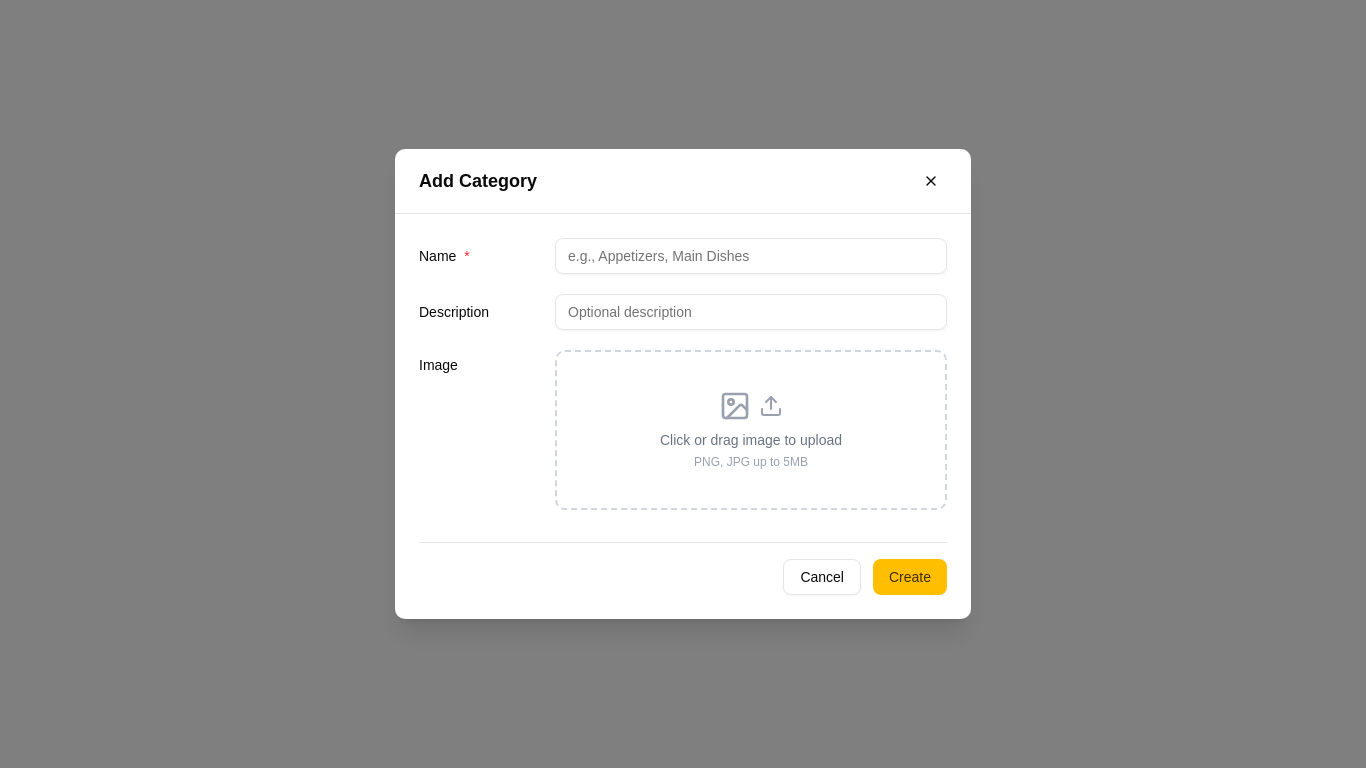
Scenario: CategoryForm › Error Handling › should display error message when action fails
The width and height of the screenshot is (1366, 768).
Type "Duplicate Name" into the field labelled "Name *" at (751, 256), box [555,238,947,274]
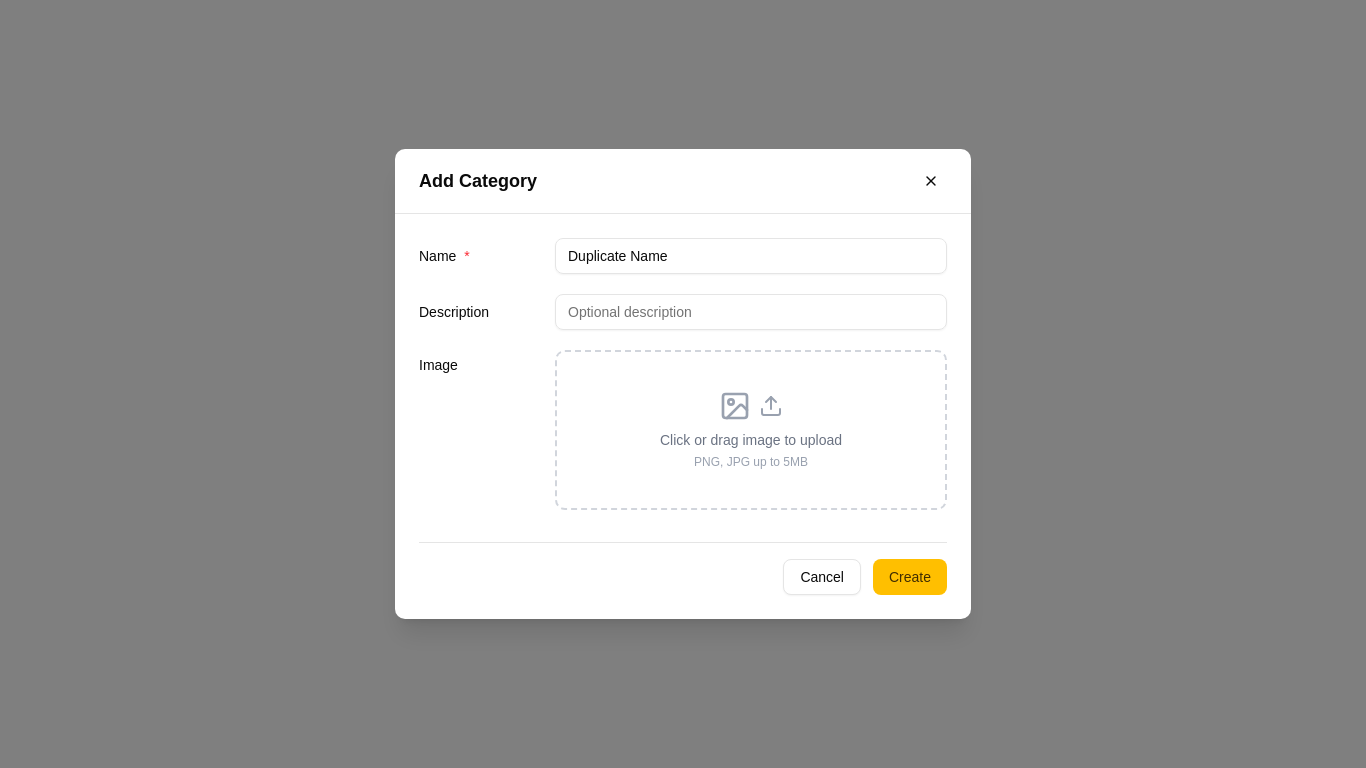
Click the button "Create" at (910, 577), box [873,559,947,595]
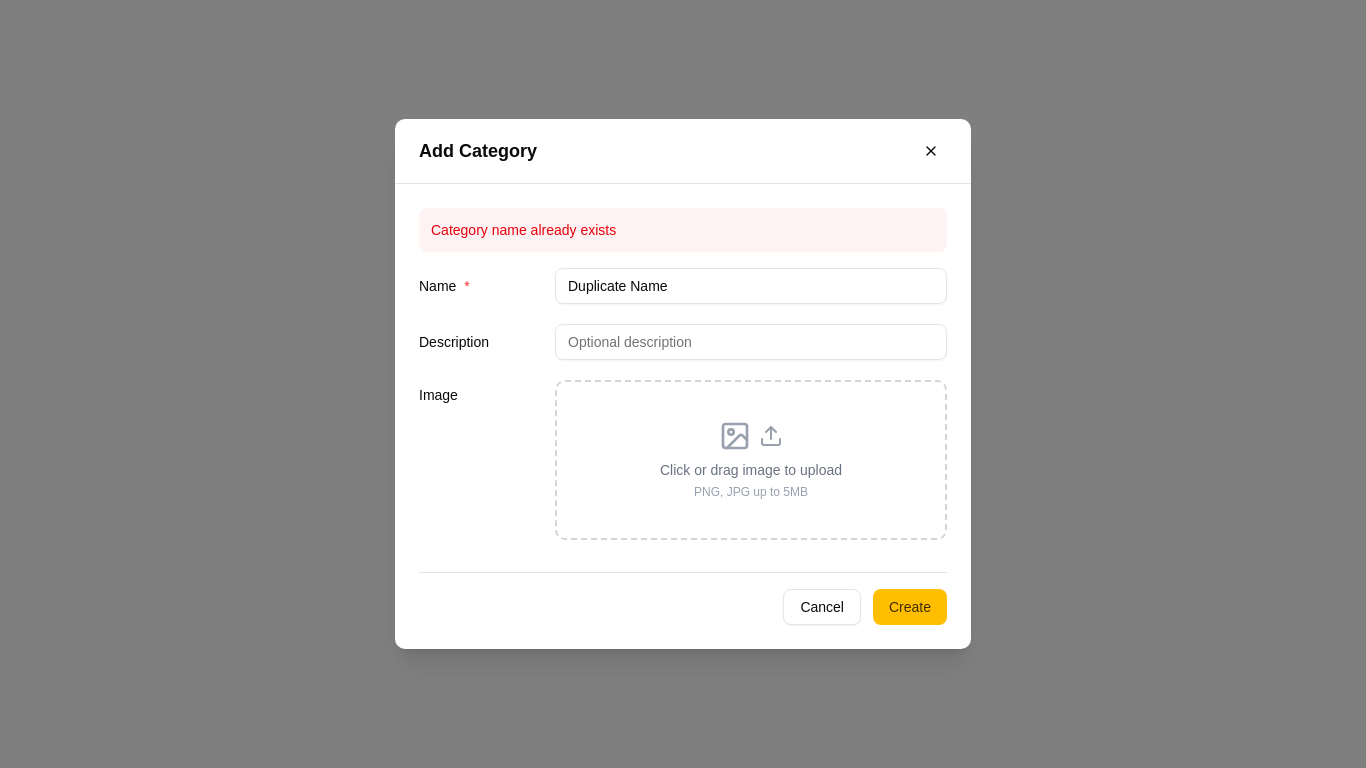
Now the text "Category name already exists" is shown, box [419,208,947,252]
